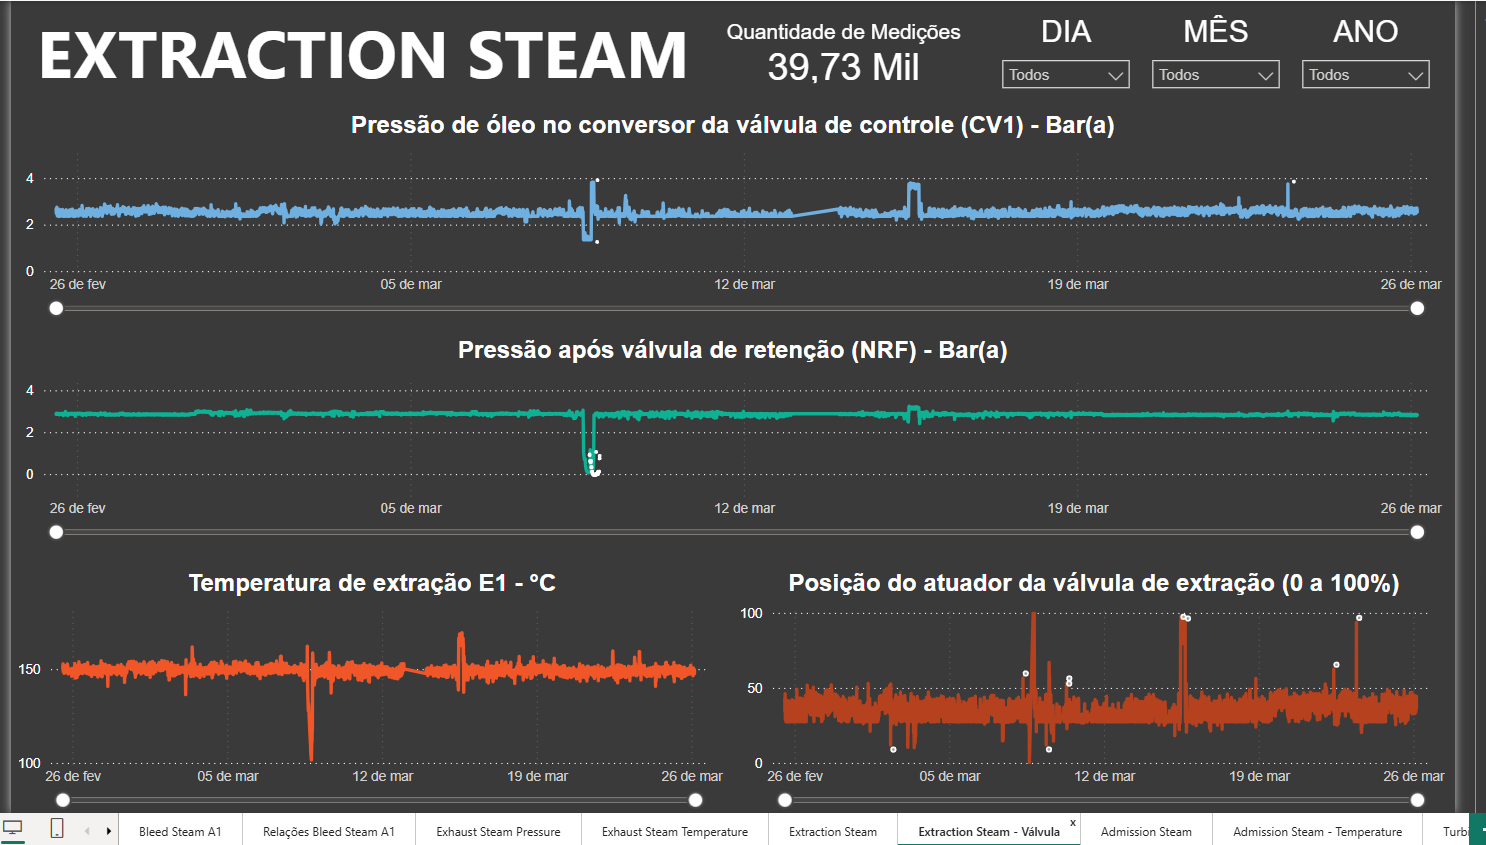

This screenshot's page, from the dashboard's own definition file:
{"tool":"powerbi","page":{"name":"Extraction Steam - Válvula","canvas":[1280,720],"ordinal":5},"visuals":[{"type":"lineChart","title":"Pressão de óleo no conversor da válvula de controle (CV1) - Bar(a)","fields":{"Y":["Sum(TESTE - DADOS OPERAC TURB VAPOR.\"\"ES1P_CV1_P\"\": \"\"TURBINE EXTRACTION E1 - EXTRACTION CONTROL VALVE - ELECTRIC-HYD CO"],"Category":["TESTE - DADOS OPERAC TURB VAPOR.Date"]},"box":[0,98.5,1280,185.3],"z":0},{"type":"textbox","box":[0,0,624.4,87.5],"z":1000},{"type":"slicer","title":"ANO","fields":{"Values":["TESTE - DADOS OPERAC TURB VAPOR.Date.Variation.Hierarquia de datas.Ano"]},"box":[1135.1,12.6,133.3,70],"z":2000},{"type":"slicer","title":"MÊS","fields":{"Values":["TESTE - DADOS OPERAC TURB VAPOR.Date.Variation.Hierarquia de datas.Mês"]},"box":[1001.8,12.6,133.3,70],"z":3000},{"type":"slicer","title":"DIA","fields":{"Values":["TESTE - DADOS OPERAC TURB VAPOR.Date.Variation.Hierarquia de datas.Dia"]},"box":[868.6,12.6,133.3,85.6],"z":4000},{"type":"lineChart","title":"Pressão após válvula de retenção (NRF) - Bar(a)","fields":{"Y":["Sum(TESTE - DADOS OPERAC TURB VAPOR.\"\"ES1P_NRF\"\": \"\"EXTRACTION STEAM E1 - PRESSURE AFTER NON RETURN VALVE (CONTROL MEASU"],"Category":["TESTE - DADOS OPERAC TURB VAPOR.Date"]},"box":[0,298.3,1280,184.4],"z":5000},{"type":"lineChart","title":"Temperatura de extração E1 - °C","fields":{"Y":["Sum(TESTE - DADOS OPERAC TURB VAPOR.\"\"ES1T\"\": \"\"EXTRACTION STEAM E1 - TEMPERATURE - Actual Value\"\" (\"\"ºC\"\"))"],"Category":["TESTE - DADOS OPERAC TURB VAPOR.Date"]},"box":[0,504.9,640,215.3],"z":6000},{"type":"card","title":"Quantidade de Medições","fields":{"Values":["CountNonNull(TESTE - DADOS OPERAC TURB VAPOR.\"\"ES1T\"\": \"\"EXTRACTION STEAM E1 - TEMPERATURE - Actual Value\"\" (\"\"ºC\"\"))"]},"box":[615.7,16.5,246.1,61.3],"z":7000},{"type":"lineChart","title":"Posição do atuador da válvula de extração (0 a 100%)","fields":{"Y":["Sum(TESTE - DADOS OPERAC TURB VAPOR.\"\"ESP_CV1_POS\"\": \"\"ATLAS II - ACTUATOR LP (EXTRACTION) - Modbus signal\"\" (\"\"%\"\"))"],"Category":["TESTE - DADOS OPERAC TURB VAPOR.Date"]},"box":[640,504.9,640,215.3],"z":7001}]}

Visuals, with their boxes on the page's 1280x720 design canvas (x1, y1, x2, y2). These are canvas units, not pixel positions in the 1486x845 screenshot, which may show the page scaled, cropped or inside an application window:
"Pressão de óleo no conversor da válvula de controle (CV1) - Bar(a)" lineChart: <region>0, 98, 1280, 284</region>
textbox: <region>0, 0, 624, 88</region>
"ANO" slicer: <region>1135, 13, 1268, 83</region>
"MÊS" slicer: <region>1002, 13, 1135, 83</region>
"DIA" slicer: <region>869, 13, 1002, 98</region>
"Pressão após válvula de retenção (NRF) - Bar(a)" lineChart: <region>0, 298, 1280, 483</region>
"Temperatura de extração E1 - °C" lineChart: <region>0, 505, 640, 720</region>
"Quantidade de Medições" card: <region>616, 16, 862, 78</region>
"Posição do atuador da válvula de extração (0 a 100%)" lineChart: <region>640, 505, 1280, 720</region>
